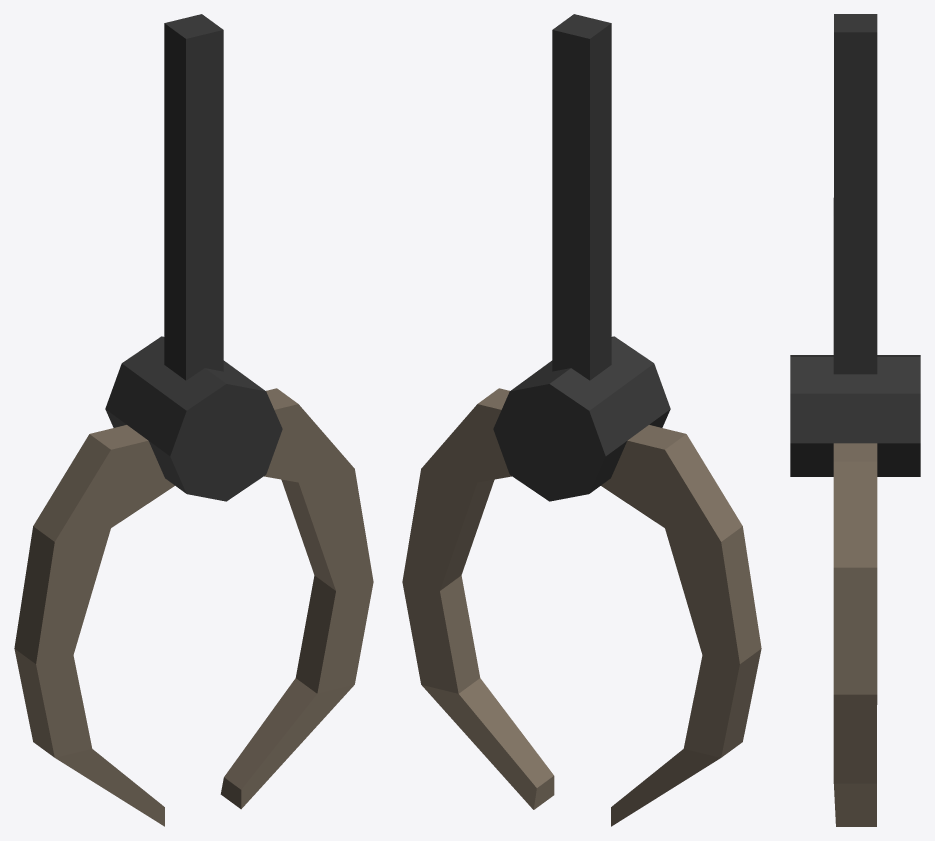
Rendered from steampunk_claw.fbx.
3 renders of one model, left to right at view 1: azimuth 30°, elevation 25°; view 2: azimuth 150°, elevation 25°; view 3: azimuth 270°, elevation 25°, orthographic.
Parts seen in each view (by area): view 1: Cylinder.003, Cylinder.026, Cylinder.027; view 2: Cylinder.003, Cylinder.026, Cylinder.027; view 3: Cylinder.003, Cylinder.027.
Boxes of the visible parts, x1,y1,x2,y2 form: Cylinder.003: [105, 14, 282, 501]; Cylinder.026: [14, 425, 174, 826]; Cylinder.027: [220, 388, 373, 809]; Cylinder.003: [493, 14, 670, 501]; Cylinder.026: [601, 425, 761, 826]; Cylinder.027: [402, 388, 554, 809]; Cylinder.003: [790, 14, 920, 476]; Cylinder.027: [833, 443, 877, 826].
Bounding box in the file's own units: 1.8 × 4 × 0.6.
